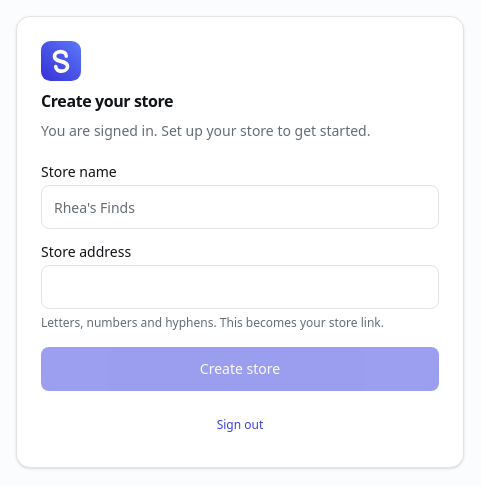
the store address field › turns the space a phone keyboard adds into a hyphen
Type "davao biryani" into the field labelled "Store address" at (240, 287), box left=41, top=265, right=439, bottom=309
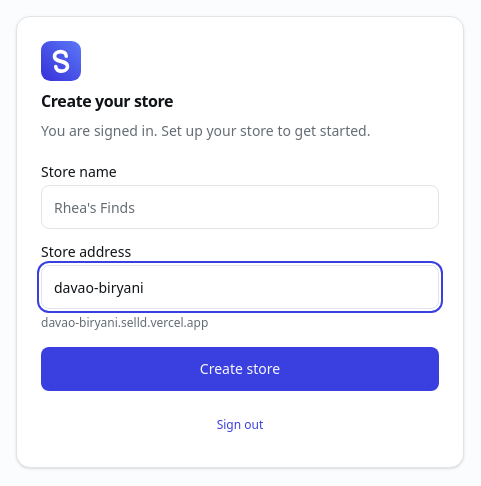
Expected: the field labelled "Store address" holds "davao-biryani", left=41, top=265, right=439, bottom=309
